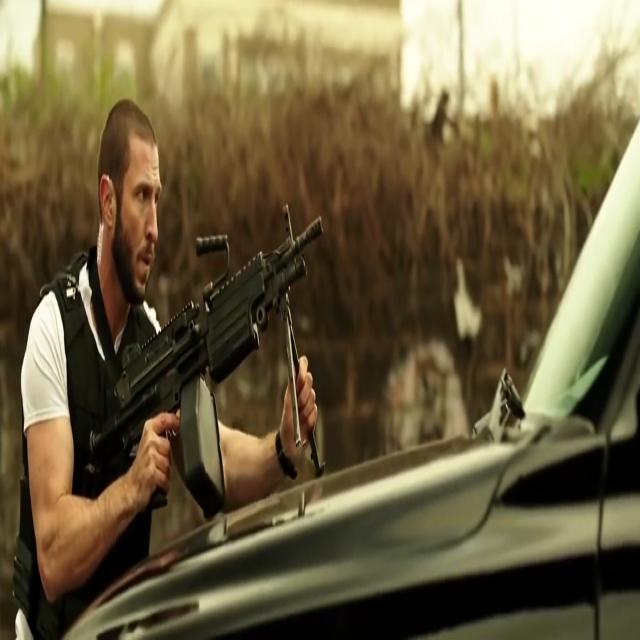Weapon: (34, 197, 373, 509)
